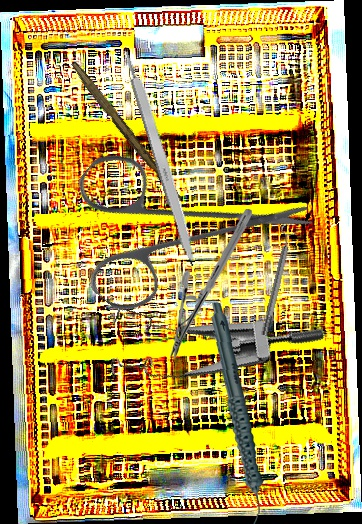Fixation Ring: (254, 224, 300, 338)
Handpiece: (203, 303, 270, 524)
Iris Scissors: (29, 83, 318, 371)
Needle Holder: (167, 208, 255, 359)
Scalpel Handle: (121, 47, 202, 268), (66, 60, 186, 204)
Speculum: (89, 241, 328, 418)
